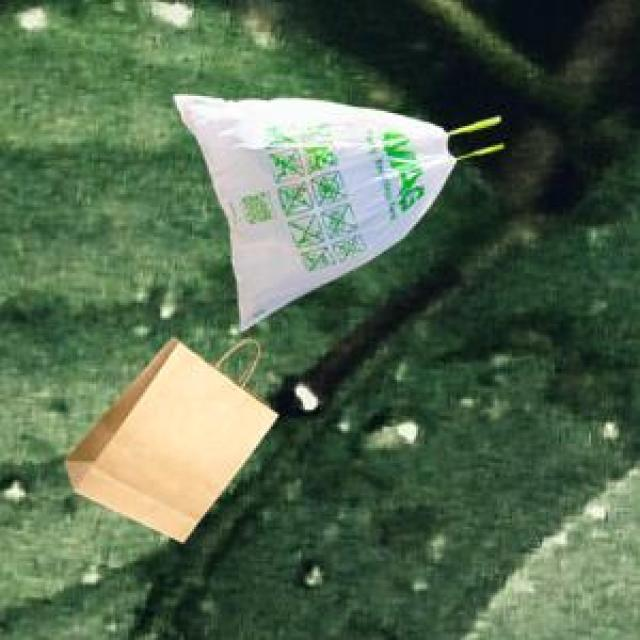paper: (60, 333, 273, 538)
